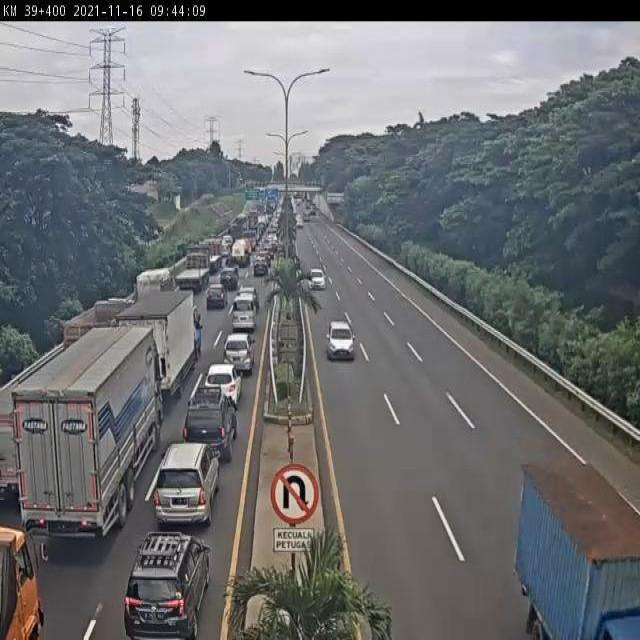car: (119, 528, 207, 640), (143, 434, 225, 522), (184, 381, 235, 463), (315, 311, 361, 377), (198, 352, 244, 412), (215, 332, 266, 376), (233, 285, 264, 355), (302, 248, 336, 309), (207, 274, 226, 314), (218, 265, 241, 292), (253, 257, 269, 284)
truck-l-: (12, 328, 170, 549), (169, 244, 213, 291), (193, 235, 224, 272)
truck-m-: (118, 289, 204, 399), (65, 296, 142, 371)
